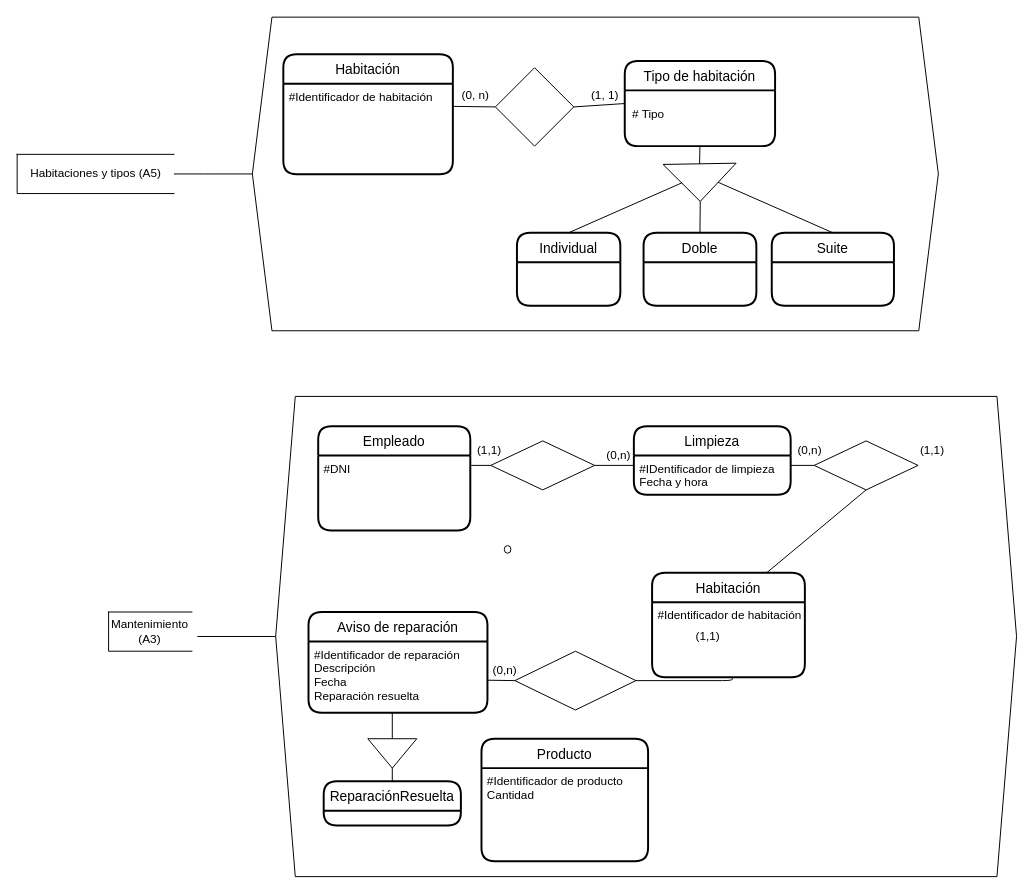
Some shapes in this 1034 by 894 pixel diagram are drawn without their labels. Here are the shapes that lost their labels. From the top down, the centre of each, then its label:
At point (534, 106): "tiene".
At point (699, 182): "{t, e}".
At point (542, 465): "Acometer".
At point (865, 465): "Recibe".
At point (575, 680): "Registra".
At point (392, 753): "{p, e}".
